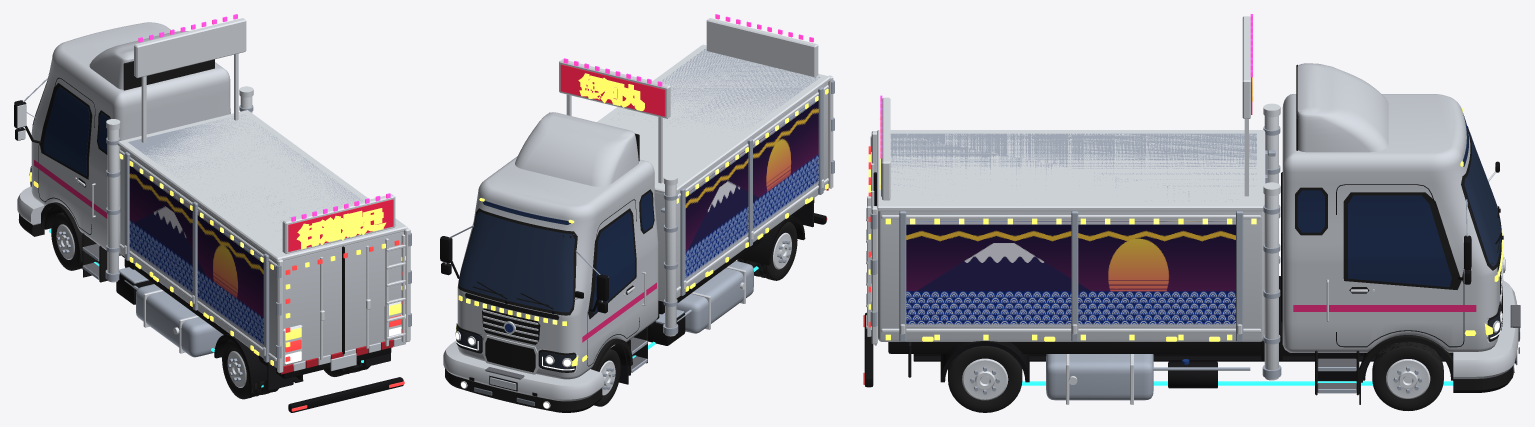
The model's file is dekotora_truck_leve_alta.glb.
The picture shows the model from 3 angles, left to right: view 1: azimuth 30°, elevation 25°; view 2: azimuth 150°, elevation 25°; view 3: azimuth 270°, elevation 25°; orthographic projection. The views are drawn at different scales.
Parts seen in each view (by area): view 1: truck_chrome, truck_paint_white_panel, truck_mural, truck_steel, truck_plastic_black, truck_plastic_trim, truck_glass, truck_lamp_amber, wheel_r_L_1.5_1.06, wheel_f_L, truck_andon_panel, truck_paint_white (+5 smaller); view 2: truck_paint_white_panel, truck_chrome, truck_steel, truck_mural, truck_glass_wind, truck_plastic_trim, truck_plastic_black, truck_glass, truck_lamp_amber, truck_andon_panel, wheel_r_L_1.5_1.06, truck_grille_honeycomb (+7 smaller); view 3: truck_paint_white_panel, truck_chrome, truck_mural, truck_steel, truck_plastic_black, truck_glass, truck_plastic_trim, wheel_f_R, wheel_r_R_1.5_1.06, truck_glass_wind, truck_lamp_amber, truck_paint_pink (+2 smaller).
Boxes of the visible parts, x1,y1,x2,y2 form: truck_chrome: (17,18,410,373); truck_paint_white_panel: (17,22,403,367); truck_mural: (129,165,263,347); truck_steel: (19,78,411,362); truck_plastic_black: (14,77,403,412); truck_plastic_trim: (18,59,214,282); truck_glass: (43,87,109,176); truck_lamp_amber: (29,161,405,365); wheel_r_L_1.5_1.06: (222,339,265,399); wheel_f_L: (51,212,82,270); truck_andon_panel: (288,199,393,251); truck_paint_white: (293,337,405,371); truck_paint_white_panel: (443,82,827,401); truck_chrome: (452,18,833,408); truck_steel: (445,49,834,372); truck_mural: (685,100,818,280); truck_glass_wind: (459,211,574,312); truck_plastic_trim: (445,112,654,412); truck_plastic_black: (440,198,826,396); truck_glass: (483,192,653,314); truck_lamp_amber: (455,73,828,366); truck_andon_panel: (560,64,665,116); wheel_r_L_1.5_1.06: (754,221,797,280); truck_grille_honeycomb: (485,338,535,372); truck_paint_white_panel: (878,63,1518,378); truck_chrome: (866,16,1515,404); truck_mural: (906,221,1235,326); truck_steel: (870,126,1469,400); truck_plastic_black: (864,161,1519,388); truck_glass: (1297,113,1468,286); truck_plastic_trim: (1295,64,1515,395); wheel_f_R: (1372,341,1443,410); wheel_r_R_1.5_1.06: (948,346,1022,412); truck_glass_wind: (1464,126,1500,266); truck_lamp_amber: (868,41,1503,341); truck_paint_pink: (1293,305,1476,311).
Bounding box in the file's own units: 3.29 × 5.14 × 9.17.
26 materials, 9 textured.
